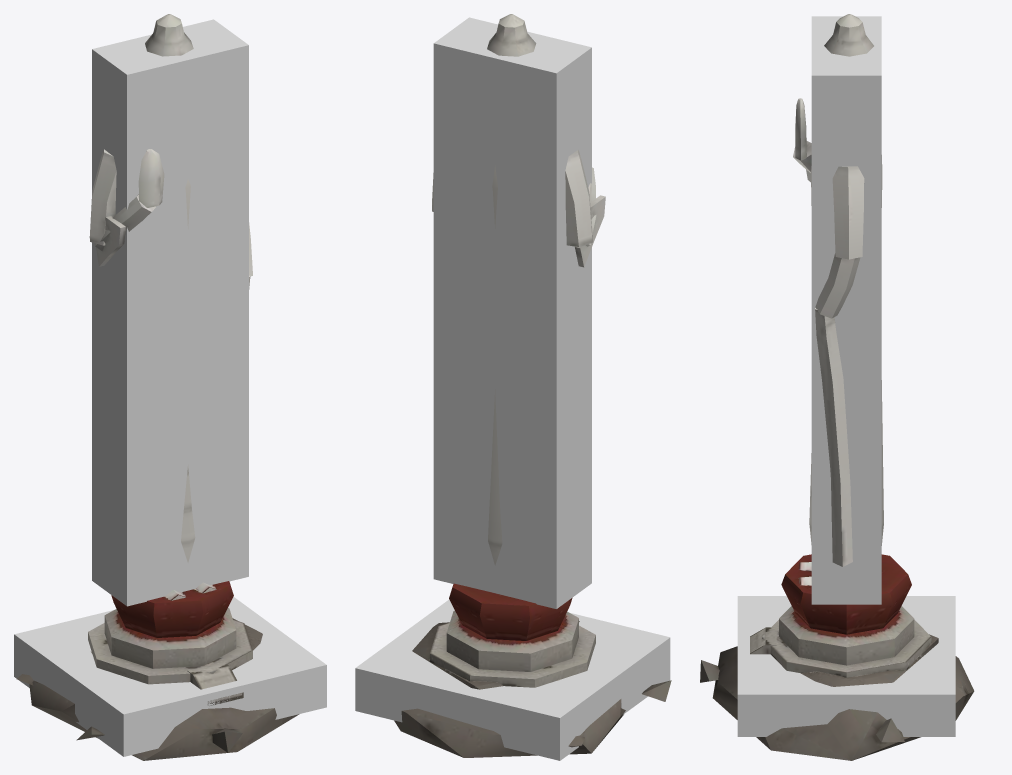
The model's file is buddha_statue.glb.
3 renders of one model, left to right at view 1: azimuth 30°, elevation 25°; view 2: azimuth 150°, elevation 25°; view 3: azimuth 270°, elevation 25°, orthographic.
Visible parts, largest first — view 1: COL_buddha_fig, buddha_statue_body, COL_buddha_rock; view 2: COL_buddha_fig, buddha_statue_body, COL_buddha_rock; view 3: buddha_statue_body, COL_buddha_fig, COL_buddha_rock.
Boxes of the visible parts, x1,y1,x2,y2 form: COL_buddha_fig: [92, 19, 248, 606]; buddha_statue_body: [16, 14, 299, 760]; COL_buddha_rock: [14, 597, 326, 756]; COL_buddha_fig: [433, 17, 591, 608]; buddha_statue_body: [394, 14, 671, 757]; COL_buddha_rock: [355, 599, 670, 760]; buddha_statue_body: [700, 14, 974, 760]; COL_buddha_fig: [811, 16, 881, 604]; COL_buddha_rock: [737, 596, 955, 736].
Size of the model in its own units: 37.66 by 96.98 by 38.29.
Materials: 1 (1 with a texture image).
